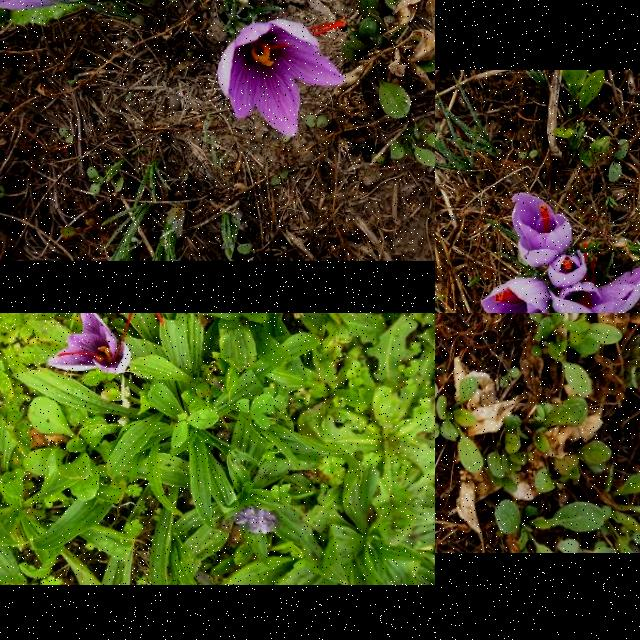flower: (218, 20, 348, 138), (550, 242, 640, 313), (47, 313, 136, 374), (510, 193, 574, 265), (480, 279, 552, 313), (548, 250, 590, 288)
